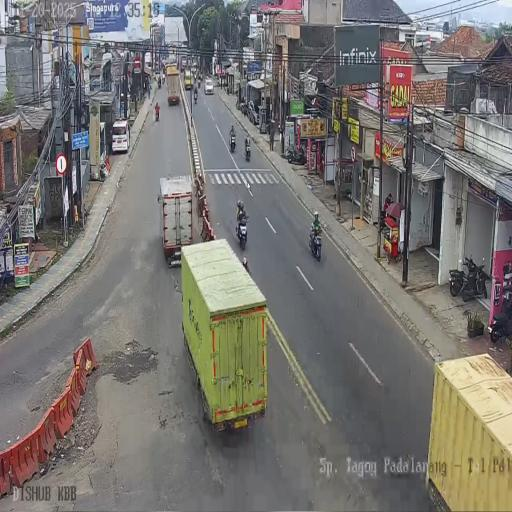3: (184, 237, 271, 430), (158, 174, 194, 268), (166, 65, 181, 108), (184, 68, 193, 90), (191, 64, 198, 80), (169, 54, 176, 68), (180, 56, 186, 71)
car: (111, 119, 130, 154), (246, 100, 259, 124), (204, 77, 214, 95), (155, 66, 159, 74)
truck: (461, 254, 489, 302), (488, 288, 512, 342), (449, 268, 466, 298), (308, 225, 322, 261), (236, 216, 248, 251), (287, 144, 306, 165), (244, 139, 251, 162), (230, 130, 236, 152), (241, 99, 248, 117), (266, 118, 273, 134), (155, 105, 160, 121), (194, 92, 198, 104), (198, 72, 202, 84), (158, 76, 161, 88), (162, 74, 165, 84)
